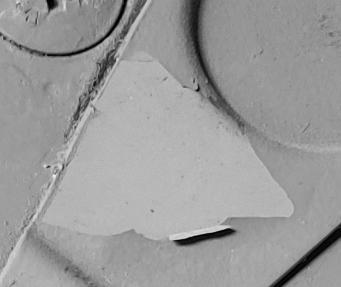paint-off: (0, 1, 341, 287)
